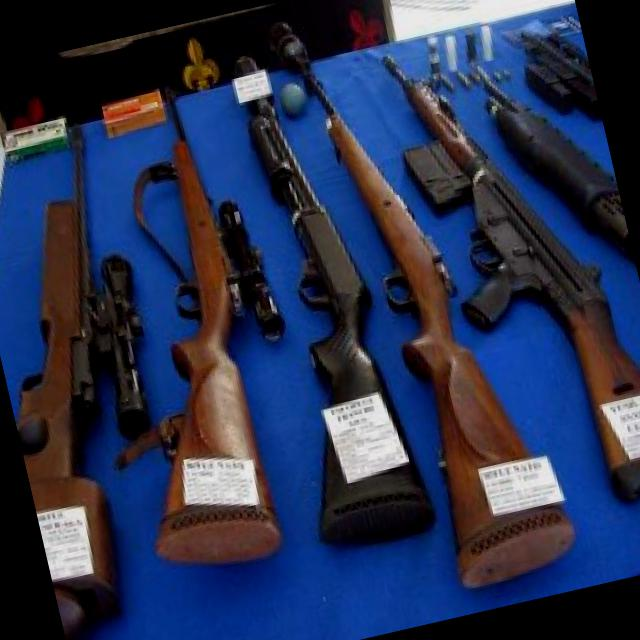long weapon: (71, 67, 318, 602), (342, 0, 551, 608), (0, 93, 222, 639), (216, 31, 402, 578)
